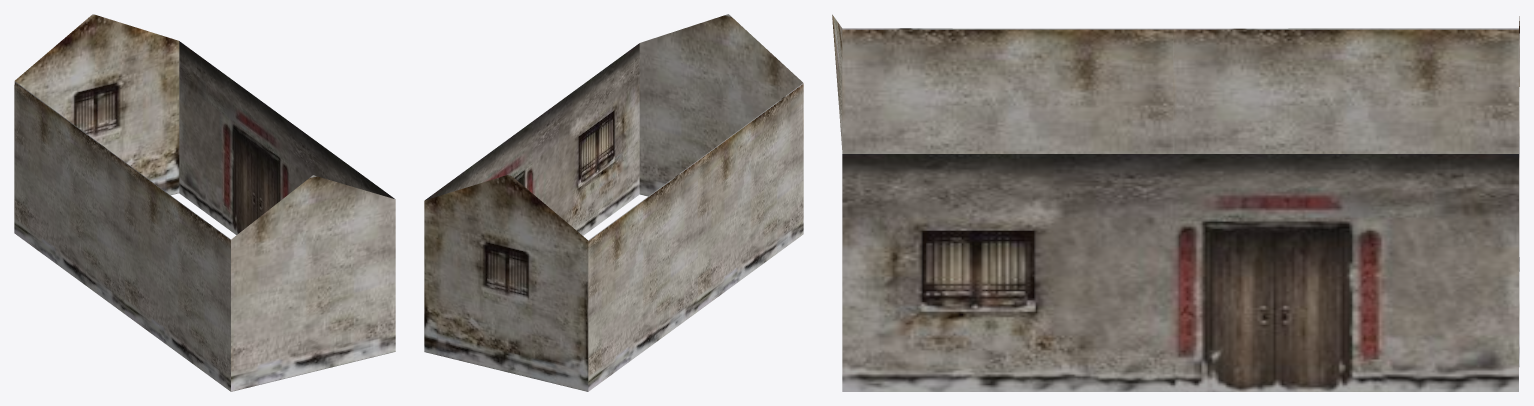
Rendered from fang07.obj.
The picture shows the model from 3 angles, left to right: view 1: azimuth 30°, elevation 25°; view 2: azimuth 150°, elevation 25°; view 3: azimuth 270°, elevation 25°; orthographic projection. The views are drawn at different scales.
Parts seen in each view (by area): view 1: fang07; view 2: fang07; view 3: fang07.
Part boxes in pixels (<box>): fang07: <box>14,14,395,391</box>; fang07: <box>424,14,803,391</box>; fang07: <box>832,14,1519,391</box>.
Bounding box in the file's own units: 82.6 × 95.82 × 191.
